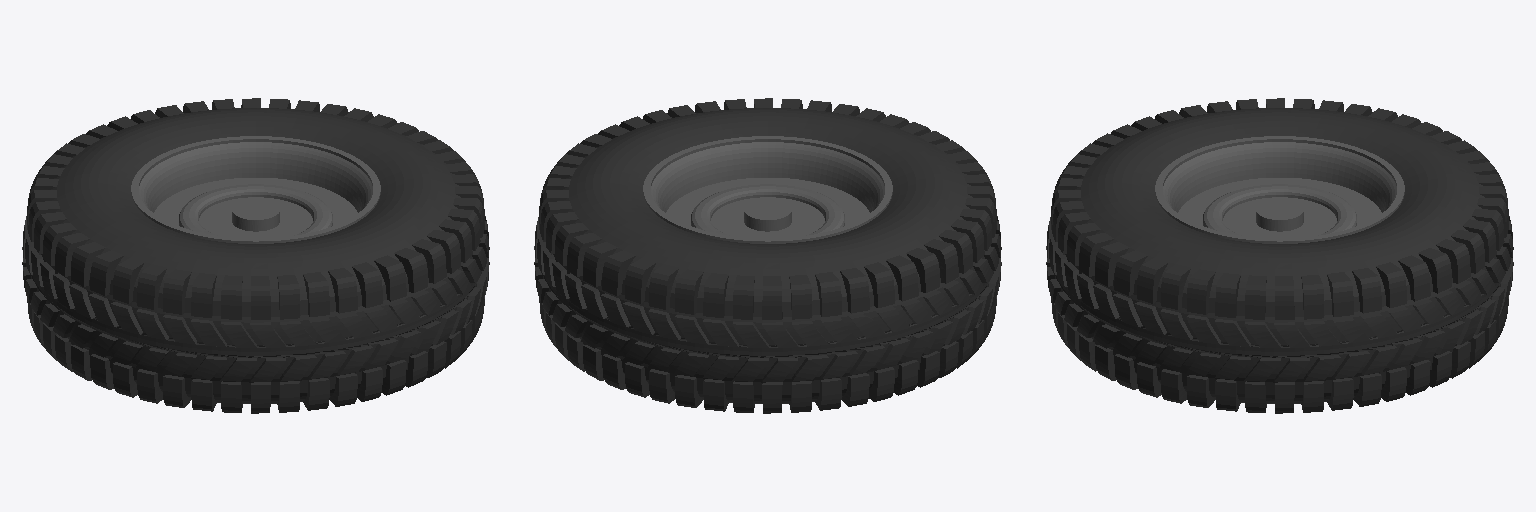
Rendered from hmmwv_wheel_right.obj.
3 views of the same model, side by side, from view 1: azimuth 30°, elevation 25°; view 2: azimuth 150°, elevation 25°; view 3: azimuth 270°, elevation 25° (orthographic).
Visible parts, largest first — view 1: Tire_wheel1.003, Hub_wheel1; view 2: Tire_wheel1.003, Hub_wheel1; view 3: Tire_wheel1.003, Hub_wheel1.
Part boxes in pixels (bbox=[...]): Tire_wheel1.003: bbox=[22, 98, 489, 413]; Hub_wheel1: bbox=[131, 136, 380, 243]; Tire_wheel1.003: bbox=[534, 98, 1001, 413]; Hub_wheel1: bbox=[643, 136, 892, 241]; Tire_wheel1.003: bbox=[1046, 98, 1513, 413]; Hub_wheel1: bbox=[1155, 136, 1404, 243].
Bounding box in the file's own units: 0.9067 × 0.3128 × 0.9067.